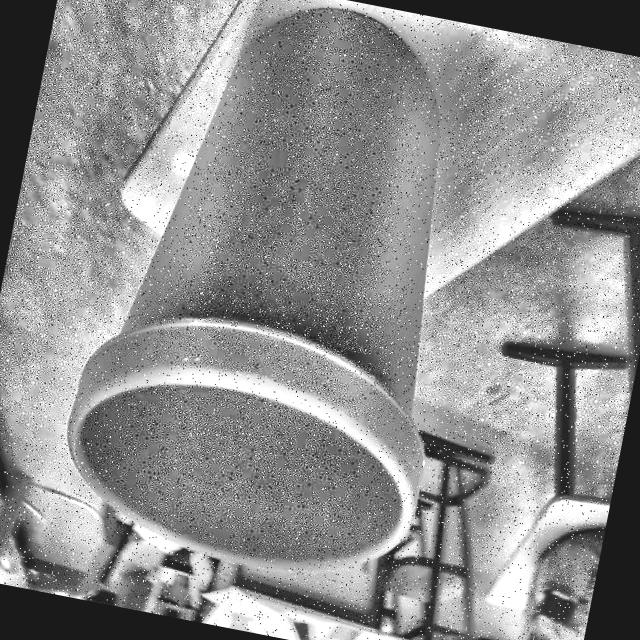Dustbin: (41, 0, 529, 613)
